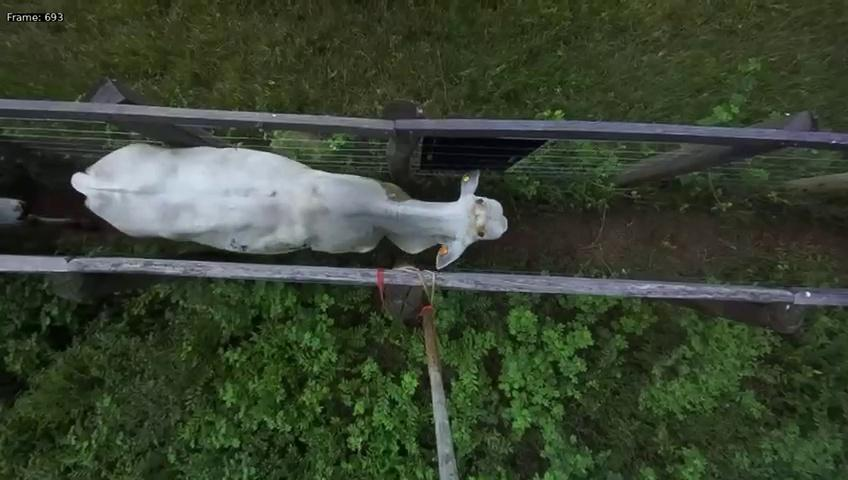cattle: (67, 137, 509, 270)
